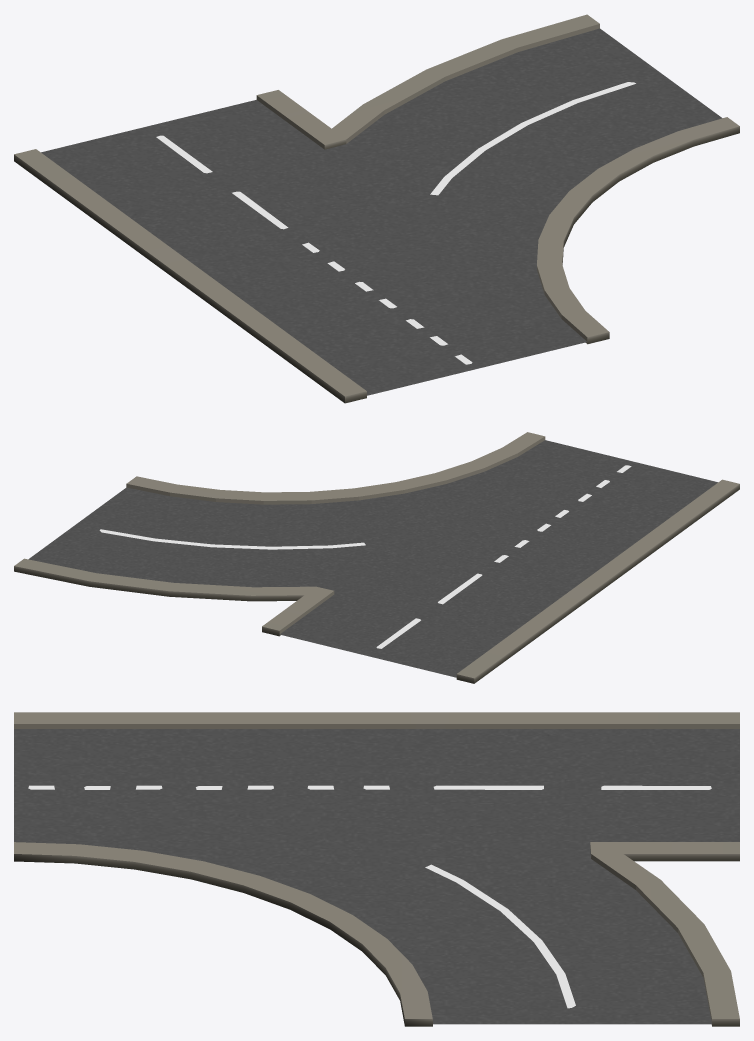
The picture shows the model from 3 angles, top to bottom: view 1: azimuth 30°, elevation 25°; view 2: azimuth 150°, elevation 25°; view 3: azimuth 270°, elevation 25°; orthographic projection. The views are drawn at different scales.
Parts seen in each view (by area): view 1: Road_1Q; view 2: Road_1Q; view 3: Road_1Q.
Part boxes in pixels (x1,y1,x2,y2): Road_1Q: (14, 14, 739, 403); Road_1Q: (14, 432, 739, 683); Road_1Q: (14, 712, 739, 1026).
Bounding box in the file's own units: 32389 × 374 × 32389.
